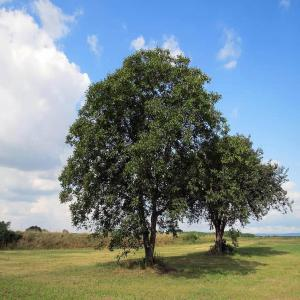Tree: (58, 42, 228, 270), (200, 131, 294, 256)
